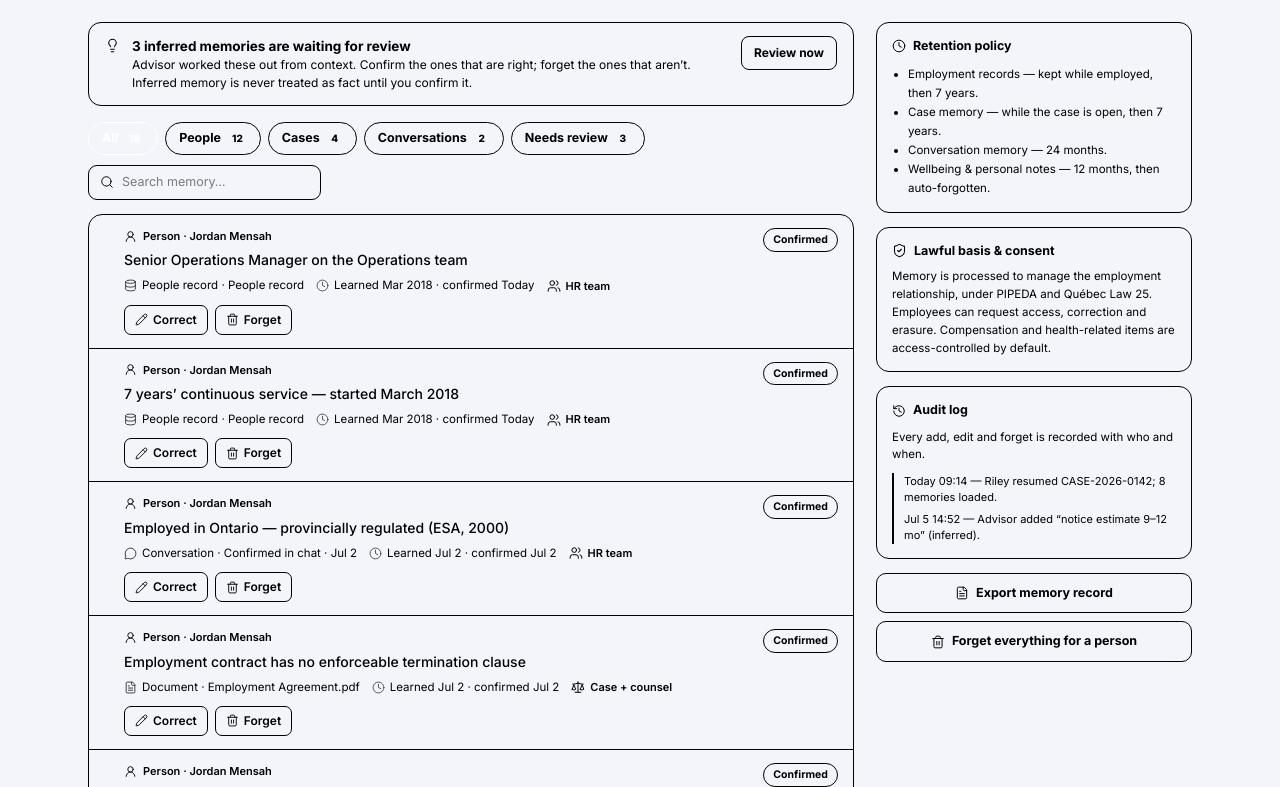
it: Advisor Memory surfaces › MemoryManagerView › records confirm actions in the audit log
The width and height of the screenshot is (1280, 787).
Click the tab "Needs review 3" at (578, 139), box [511,122,645,155]
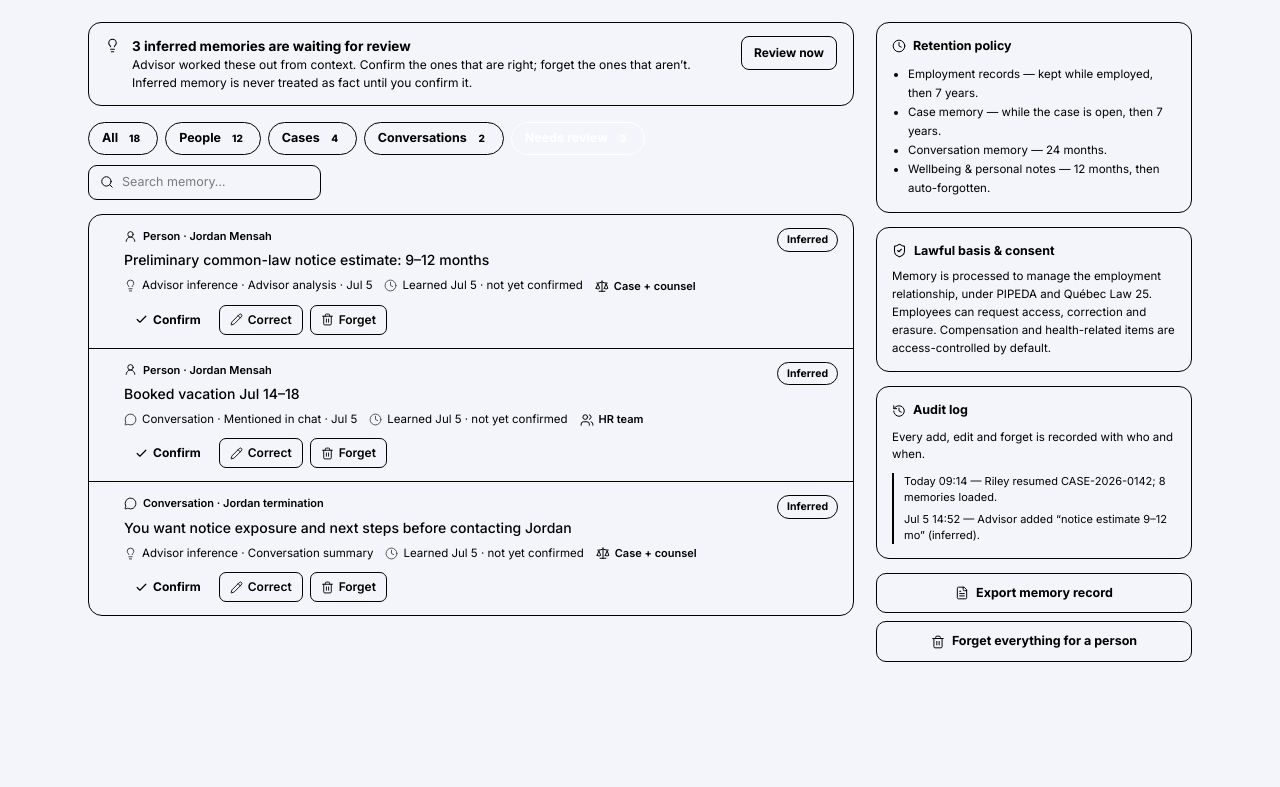
Click the button "Confirm" below "Advisor analysis · Jul 5" at (168, 320), box [124,304,212,334]
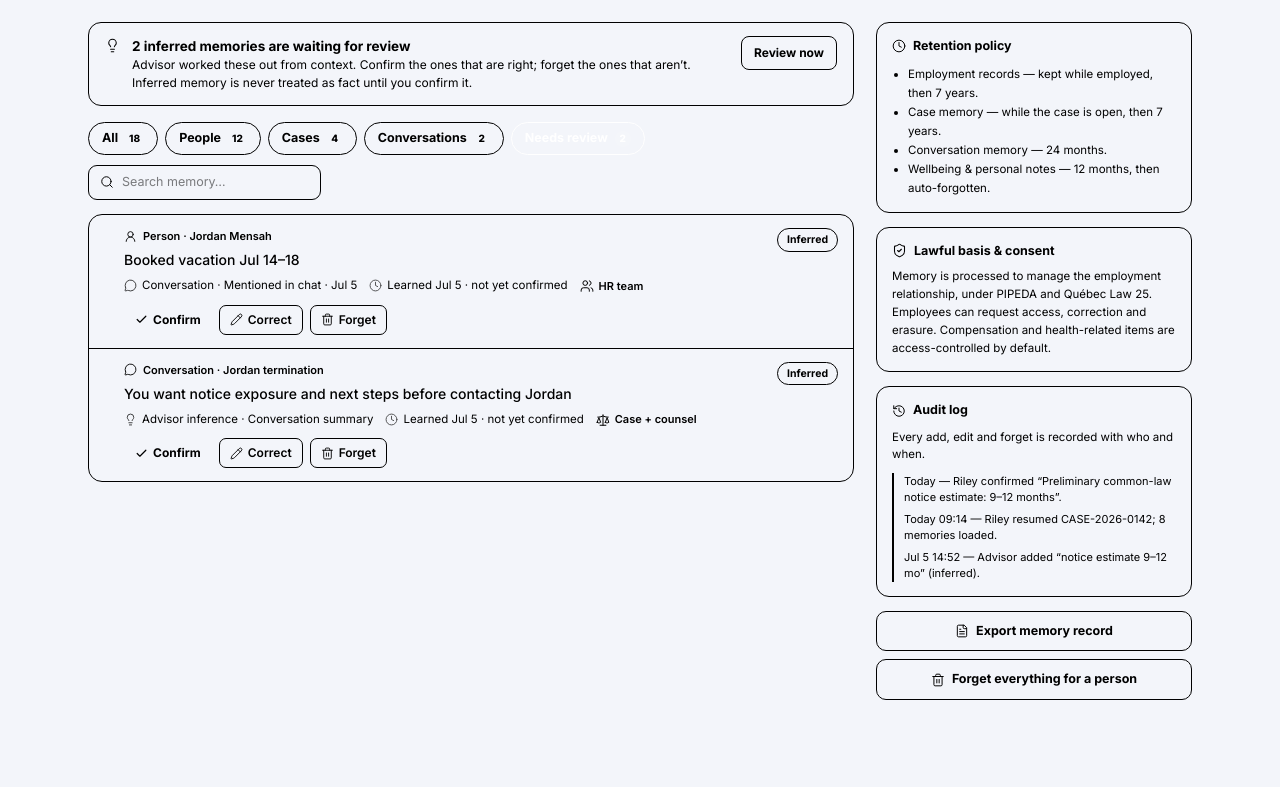
Check: the text "Today — Riley confirmed" is shown, box [904,473,1176,506]
